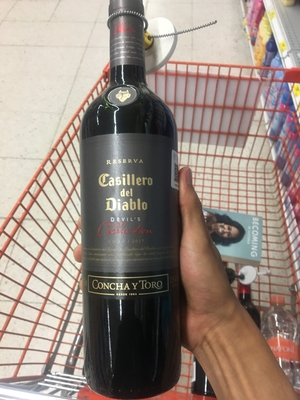casillero del diablo devils collection rojo: (81, 9, 182, 395)
